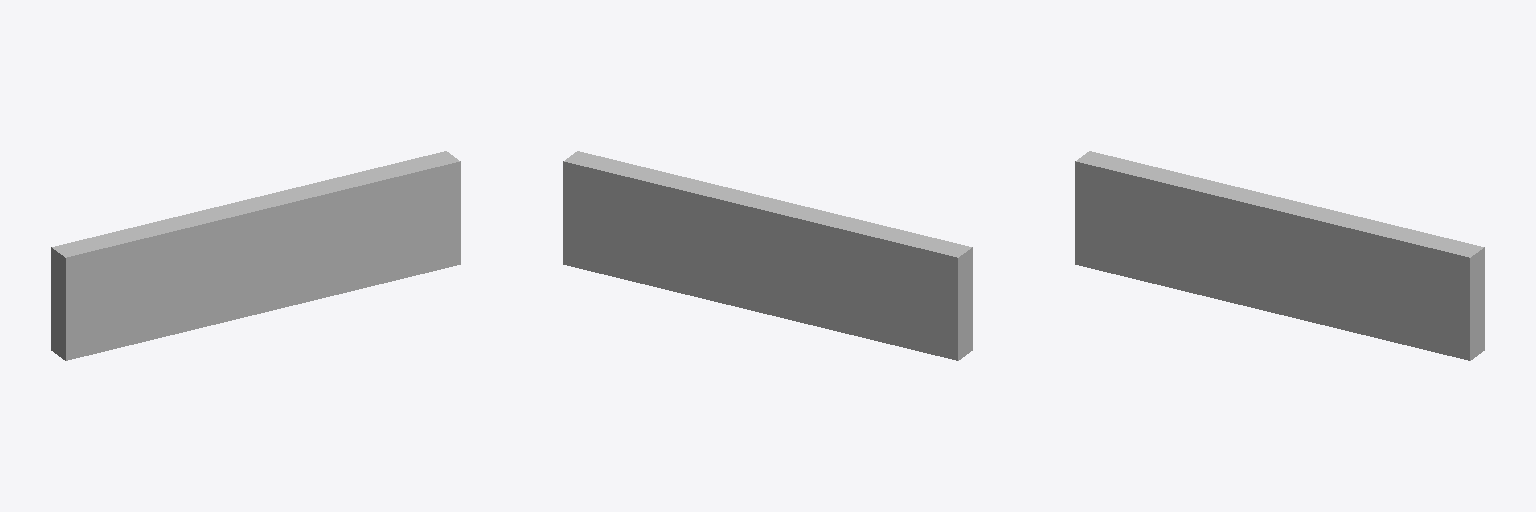
Rendered from Block_16x1x4.obj.
3 renders of one model, left to right at view 1: azimuth 30°, elevation 25°; view 2: azimuth 150°, elevation 25°; view 3: azimuth 330°, elevation 25°, orthographic.
Visible parts, largest first — view 1: Block_16x1x4_Cube.254; view 2: Block_16x1x4_Cube.254; view 3: Block_16x1x4_Cube.254.
Part boxes in pixels (left/top/right/bottom): Block_16x1x4_Cube.254: left=51, top=151, right=460, bottom=360; Block_16x1x4_Cube.254: left=563, top=151, right=972, bottom=360; Block_16x1x4_Cube.254: left=1075, top=151, right=1484, bottom=360.
Bounding box in the file's own units: 16 × 4 × 1.